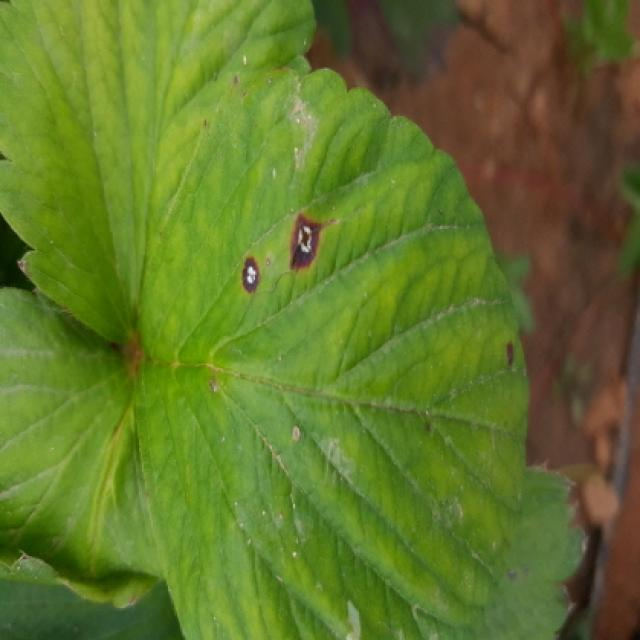Leaf Spot: (134, 67, 530, 638)
